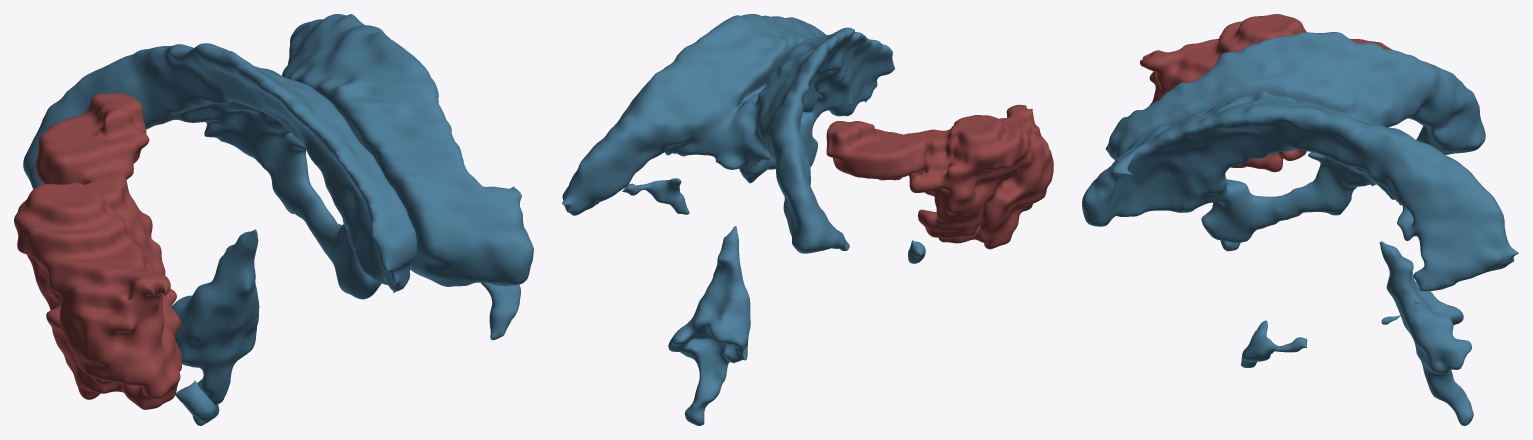
Rendered from figure_1_7.glb.
3 views of the same model, side by side, from view 1: azimuth 30°, elevation 25°; view 2: azimuth 150°, elevation 25°; view 3: azimuth 270°, elevation 25° (orthographic). The views are drawn at different scales.
Visible parts, largest first — view 1: ventricles, hard_bleed; view 2: ventricles, hard_bleed; view 3: ventricles, hard_bleed.
Part boxes in pixels (x1,y1,x2,y2): ventricles: (23, 14, 533, 425); hard_bleed: (14, 92, 181, 409); ventricles: (562, 14, 925, 425); hard_bleed: (826, 104, 1053, 249); ventricles: (1082, 32, 1518, 425); hard_bleed: (1140, 14, 1392, 172).
Size of the model in its own units: 90.54 by 78.69 by 85.46.
